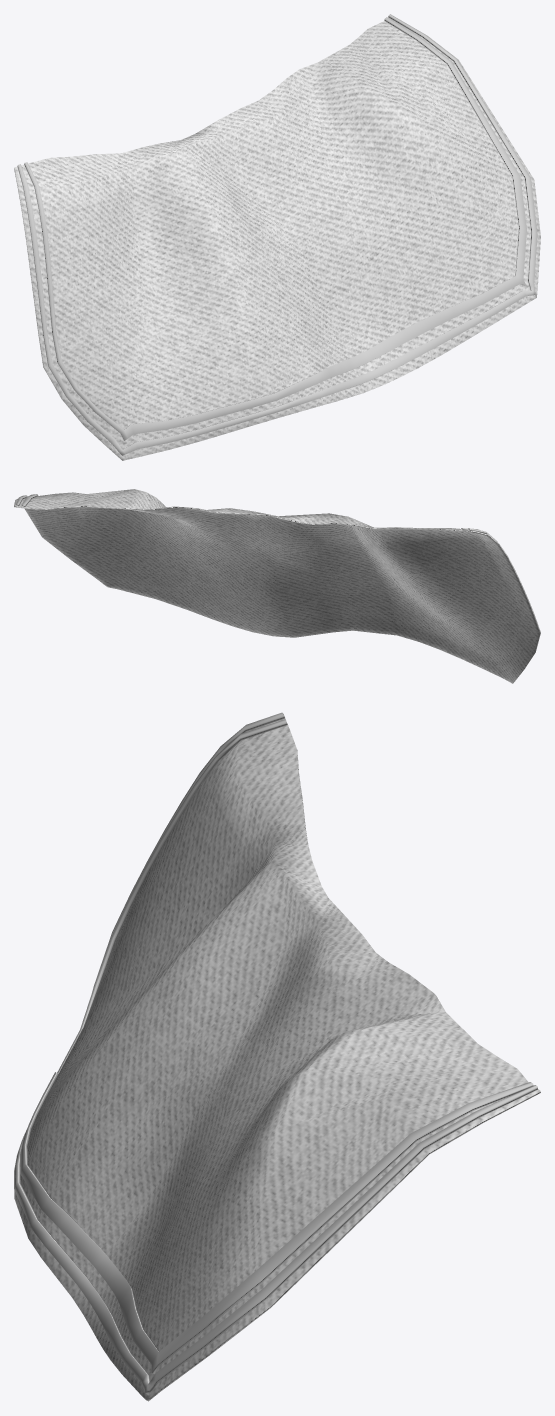
File: Jac_Pocket_RIGHT_V1.glb
3 views of the same model, one above another, from view 1: azimuth 30°, elevation 25°; view 2: azimuth 150°, elevation 25°; view 3: azimuth 270°, elevation 25° (orthographic). The views are drawn at different scales.
Visible parts, largest first — view 1: Jac_Pocket_RIGHT_V11, Rope1; view 2: Jac_Pocket_RIGHT_V11, Rope1; view 3: Jac_Pocket_RIGHT_V11, Rope1.
Part boxes in pixels (bbox=[...]): Jac_Pocket_RIGHT_V11: bbox=[14, 18, 540, 460]; Rope1: bbox=[17, 14, 537, 455]; Jac_Pocket_RIGHT_V11: bbox=[14, 489, 540, 683]; Rope1: bbox=[16, 494, 497, 621]; Jac_Pocket_RIGHT_V11: bbox=[14, 713, 540, 1401]; Rope1: bbox=[14, 712, 537, 1394].
Bounding box in the file's own units: 0.2126 × 0.093 × 0.1169.
Materials: 2 (2 with a texture image).
